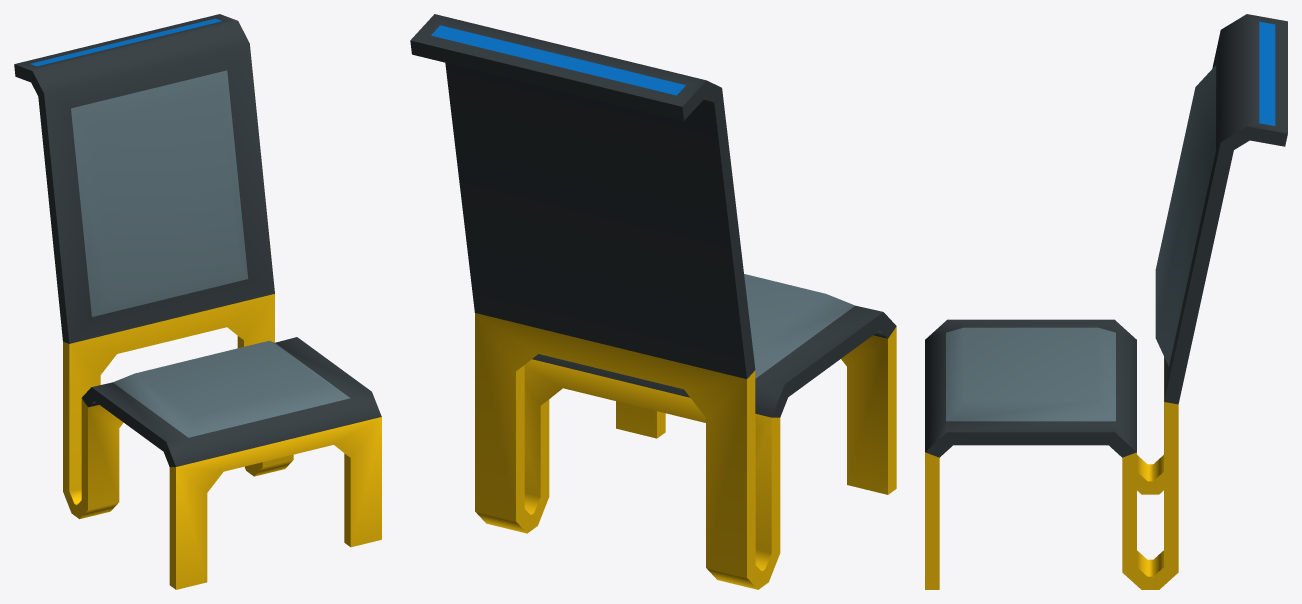
File: Chair_011.glb
The picture shows the model from 3 angles, left to right: view 1: azimuth 30°, elevation 25°; view 2: azimuth 150°, elevation 25°; view 3: azimuth 270°, elevation 25°; orthographic projection. The views are drawn at different scales.
Visible parts, largest first — view 1: Chair_011; view 2: Chair_011; view 3: Chair_011.
Part boxes in pixels (x1,y1,x2,y2): Chair_011: (14,14,381,589); Chair_011: (410,14,896,589); Chair_011: (925,14,1287,589).
Bounding box in the file's own units: 0.6581 × 1.26 × 0.8977.
2 materials, 2 textured.
